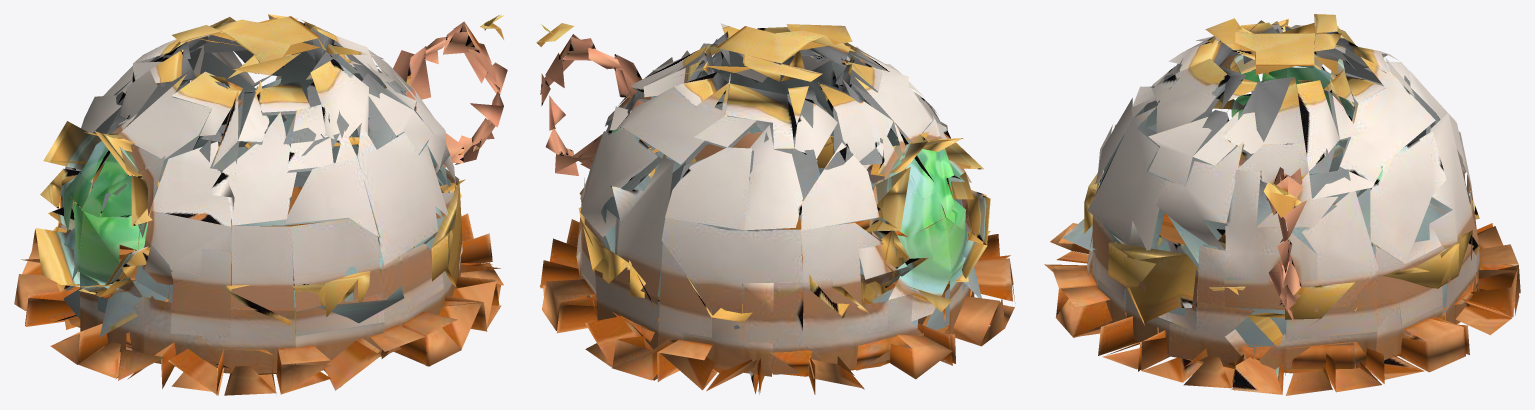
The model's file is bio-digester.lod1.glb.
The picture shows the model from 3 angles, left to right: view 1: azimuth 30°, elevation 25°; view 2: azimuth 150°, elevation 25°; view 3: azimuth 270°, elevation 25°; orthographic projection. The views are drawn at different scales.
Parts seen in each view (by area): view 1: bio-digester.001; view 2: bio-digester.001; view 3: bio-digester.001.
Part boxes in pixels (box(x1,y1,x2,y2)): bio-digester.001: box(14, 14, 507, 395); bio-digester.001: box(536, 23, 1015, 394); bio-digester.001: box(1044, 14, 1520, 395).
Bounding box in the file's own units: 0.9908 × 0.5481 × 0.9214.
1 material, 1 textured.
